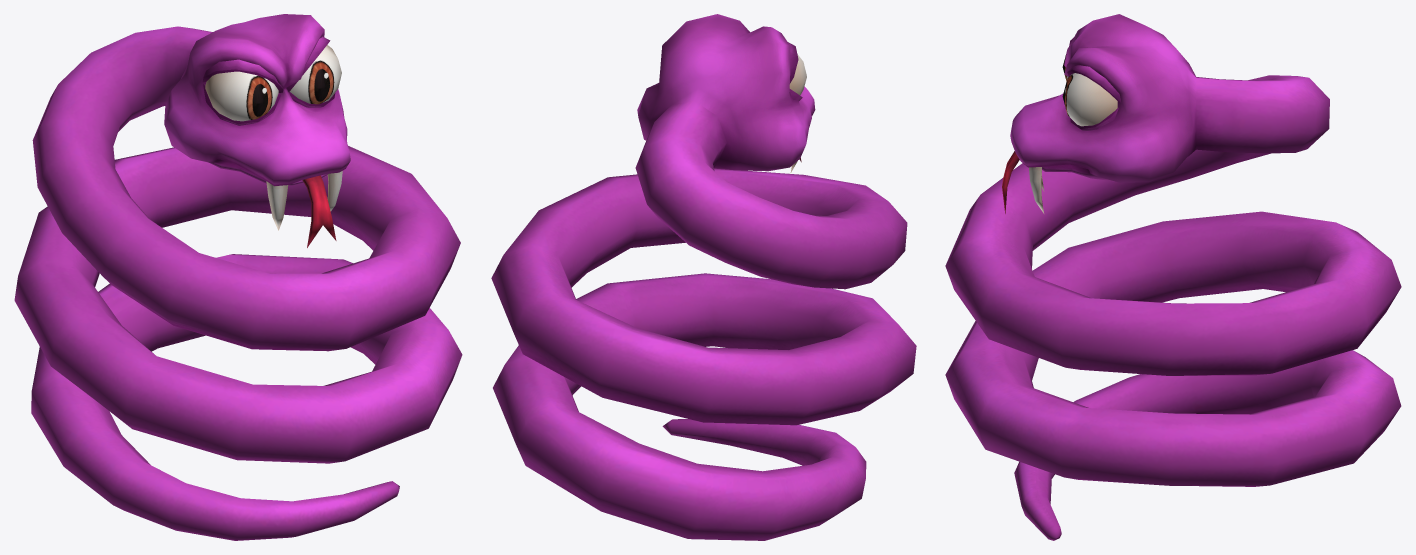
Rendered from Coily.obj.
3 views of the same model, side by side, from view 1: azimuth 30°, elevation 25°; view 2: azimuth 150°, elevation 25°; view 3: azimuth 270°, elevation 25° (orthographic). The views are drawn at different scales.
Visible parts, largest first — view 1: Coily; view 2: Coily; view 3: Coily.
Part boxes in pixels (x1=…): Coily: x1=14, y1=14, x2=462, y2=540; Coily: x1=491, y1=14, x2=916, y2=540; Coily: x1=945, y1=14, x2=1401, y2=540.
Bounding box in the file's own units: 1.7 × 2.08 × 1.85.
Materials: 1 (1 with a texture image).
